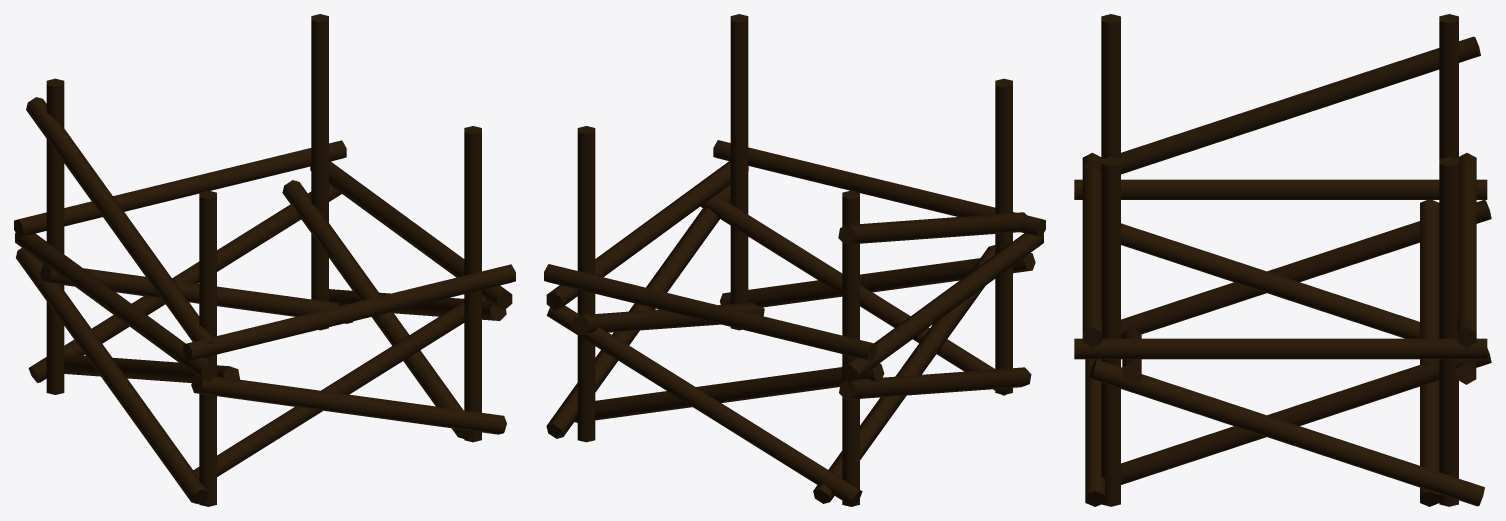
File: BuildingSite1.obj
3 views of the same model, side by side, from view 1: azimuth 30°, elevation 25°; view 2: azimuth 150°, elevation 25°; view 3: azimuth 270°, elevation 25° (orthographic). The views are drawn at different scales.
Visible parts, largest first — view 1: Cylinder084, Cylinder087, Cylinder091, Cylinder092, Cylinder081, Cylinder089, Cylinder086, Cylinder077, Cylinder076, Cylinder083, Cylinder078, Cylinder075 (+5 smaller); view 2: Cylinder085, Cylinder081, Cylinder084, Cylinder076, Cylinder077, Cylinder086, Cylinder079, Cylinder083, Cylinder078, Cylinder087, Cylinder075, Cylinder088 (+5 smaller); view 3: Cylinder082, Cylinder088, Cylinder092, Cylinder083, Cylinder090, Cylinder089, Cylinder091, Cylinder076, Cylinder077, Cylinder079, Cylinder084, Cylinder081 (+4 smaller).
Part boxes in pixels (x1,y1,x2,y2): Cylinder084: [183, 264, 515, 361]; Cylinder087: [191, 375, 506, 434]; Cylinder091: [16, 248, 208, 503]; Cylinder092: [26, 97, 214, 343]; Cylinder081: [14, 140, 346, 237]; Cylinder089: [282, 180, 473, 438]; Cylinder086: [193, 296, 487, 477]; Cylinder077: [464, 126, 481, 442]; Cylinder076: [311, 14, 328, 330]; Cylinder083: [15, 233, 217, 381]; Cylinder078: [199, 190, 216, 506]; Cylinder075: [46, 78, 64, 394]; Cylinder085: [546, 305, 862, 506]; Cylinder081: [544, 264, 876, 361]; Cylinder084: [713, 140, 1045, 237]; Cylinder076: [577, 126, 595, 442]; Cylinder077: [730, 14, 748, 330]; Cylinder086: [700, 195, 1010, 395]; Cylinder079: [574, 363, 884, 422]; Cylinder083: [841, 233, 1043, 382]; Cylinder078: [995, 78, 1012, 394]; Cylinder087: [719, 253, 1035, 307]; Cylinder075: [842, 190, 859, 506]; Cylinder088: [546, 184, 730, 438]; Cylinder082: [1074, 338, 1487, 359]; Cylinder088: [1089, 359, 1484, 506]; Cylinder092: [1085, 36, 1480, 174]; Cylinder083: [1074, 179, 1487, 199]; Cylinder090: [1121, 223, 1419, 338]; Cylinder089: [1121, 348, 1491, 484]; Cylinder091: [1121, 200, 1491, 338]; Cylinder076: [1439, 157, 1458, 506]; Cylinder077: [1101, 157, 1120, 506]; Cylinder079: [1420, 200, 1439, 506]; Cylinder084: [1082, 152, 1102, 347]; Cylinder081: [1457, 153, 1476, 347].
Bounding box in the file's own units: 11 × 10 × 11.11.
